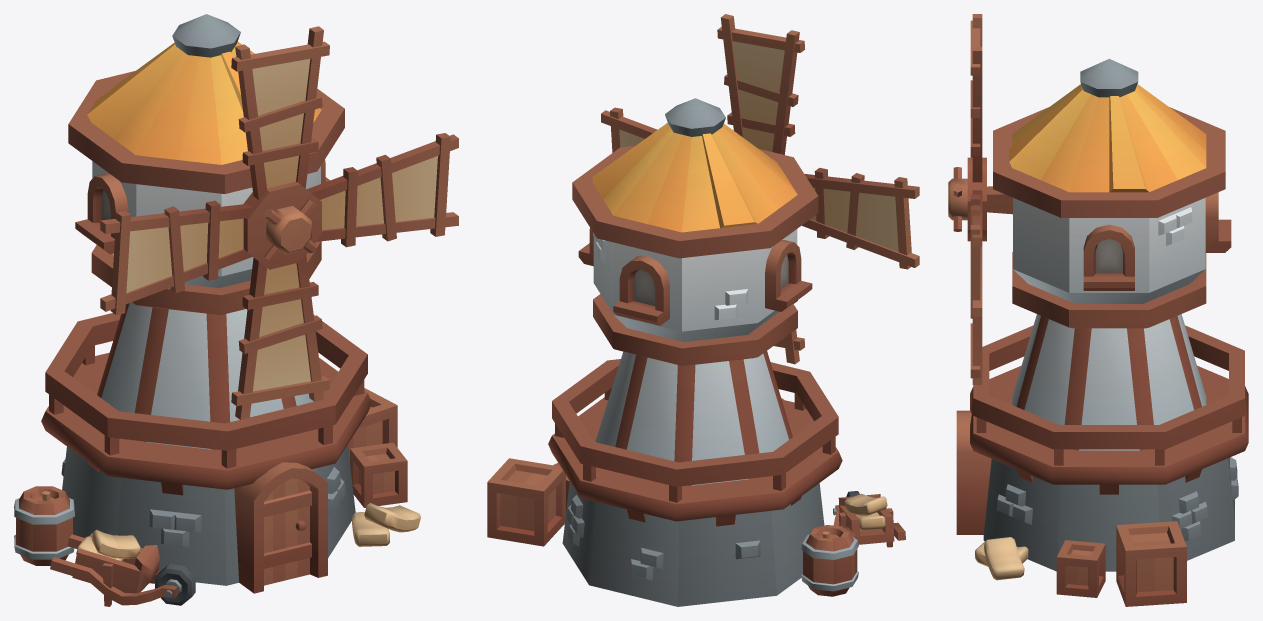
File: building_windmill_yellow.glb
3 renders of one model, left to right at view 1: azimuth 30°, elevation 25°; view 2: azimuth 150°, elevation 25°; view 3: azimuth 270°, elevation 25°, orthographic. The views are drawn at different scales.
Parts seen in each view (by area): view 1: building_windmill_yellow, building_windmill_top_fan_yellow, building_windmill_top_yellow; view 2: building_windmill_yellow, building_windmill_top_yellow, building_windmill_top_fan_yellow; view 3: building_windmill_yellow, building_windmill_top_yellow, building_windmill_top_fan_yellow.
Boxes of the visible parts, x1=… form: building_windmill_yellow: x1=14, y1=302, x2=420, y2=606; building_windmill_top_fan_yellow: x1=100, y1=26, x2=458, y2=419; building_windmill_top_yellow: x1=68, y1=14, x2=344, y2=314; building_windmill_yellow: x1=487, y1=351, x2=905, y2=606; building_windmill_top_yellow: x1=572, y1=98, x2=818, y2=365; building_windmill_top_fan_yellow: x1=601, y1=14, x2=919, y2=364; building_windmill_yellow: x1=956, y1=314, x2=1248, y2=606; building_windmill_top_yellow: x1=987, y1=58, x2=1231, y2=328; building_windmill_top_fan_yellow: x1=948, y1=14, x2=986, y2=384.
Size of the model in its own units: 1.13 by 1.46 by 0.8165.
1 material, 1 textured.
